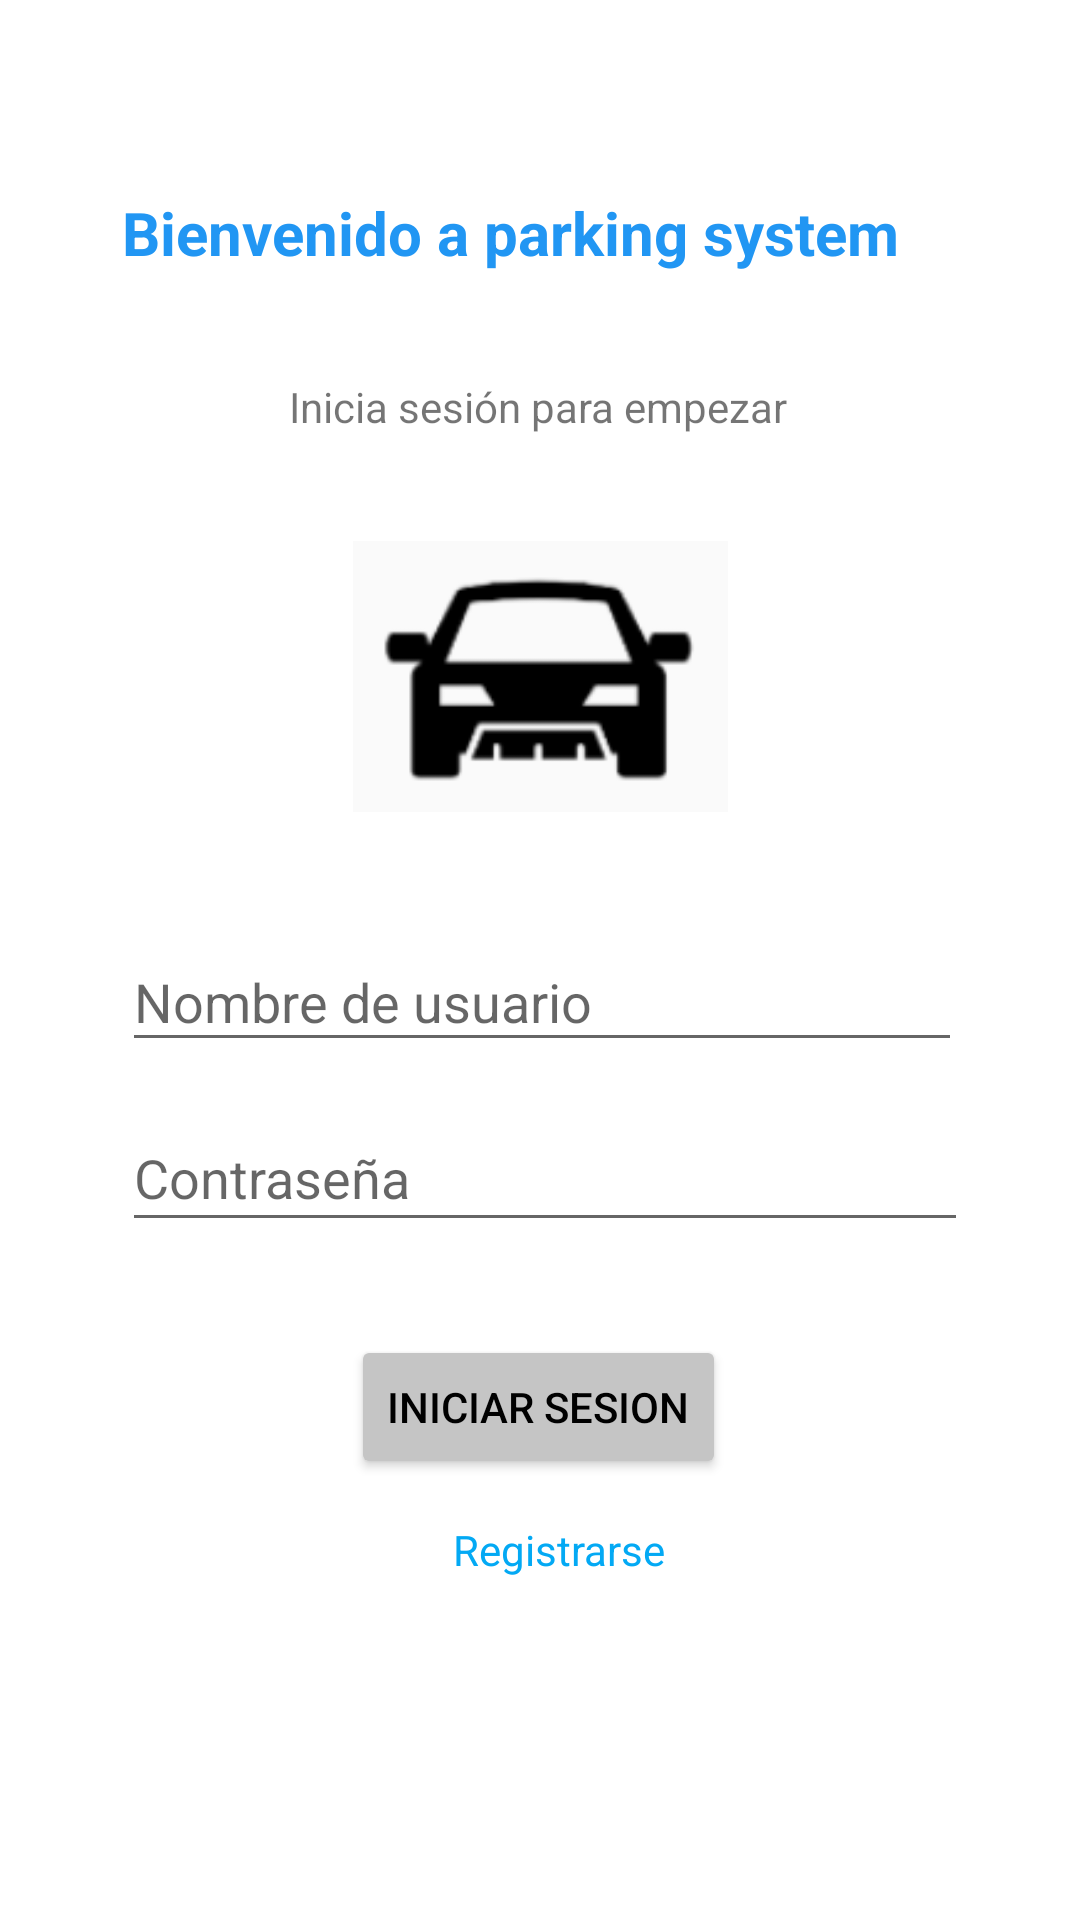

Where icons sit on this 1080 x 1920 app screen, as (x1=x1, y1=y1, x2=x2, y2=y2):
parking: (x1=384, y1=579, x2=693, y2=780)
